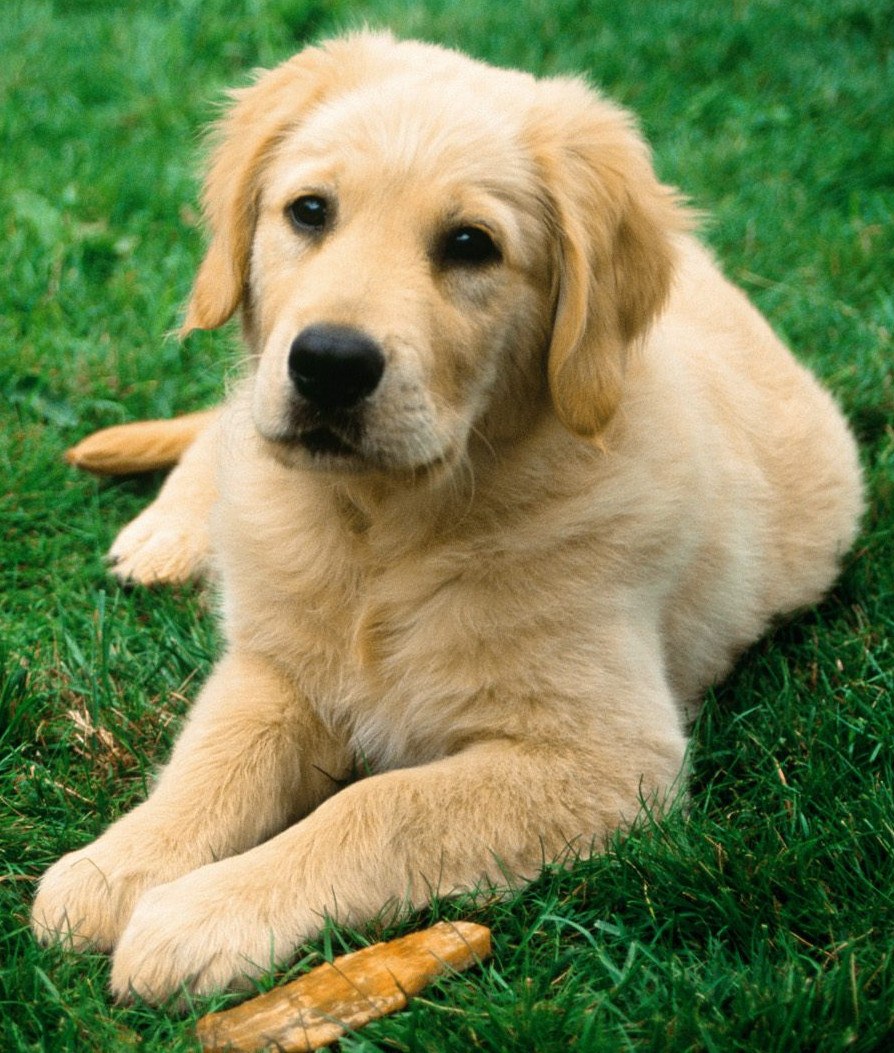dog: (0, 0, 894, 1053)
